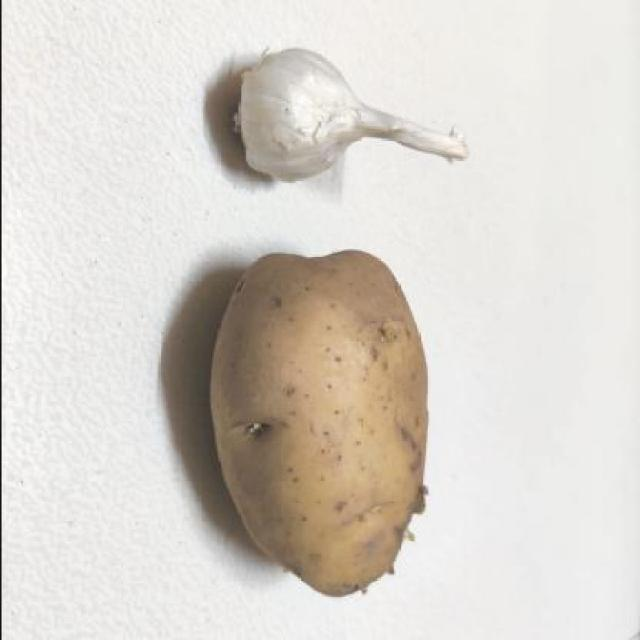Garlic: (194, 43, 480, 188)
Potato: (192, 214, 440, 638)
